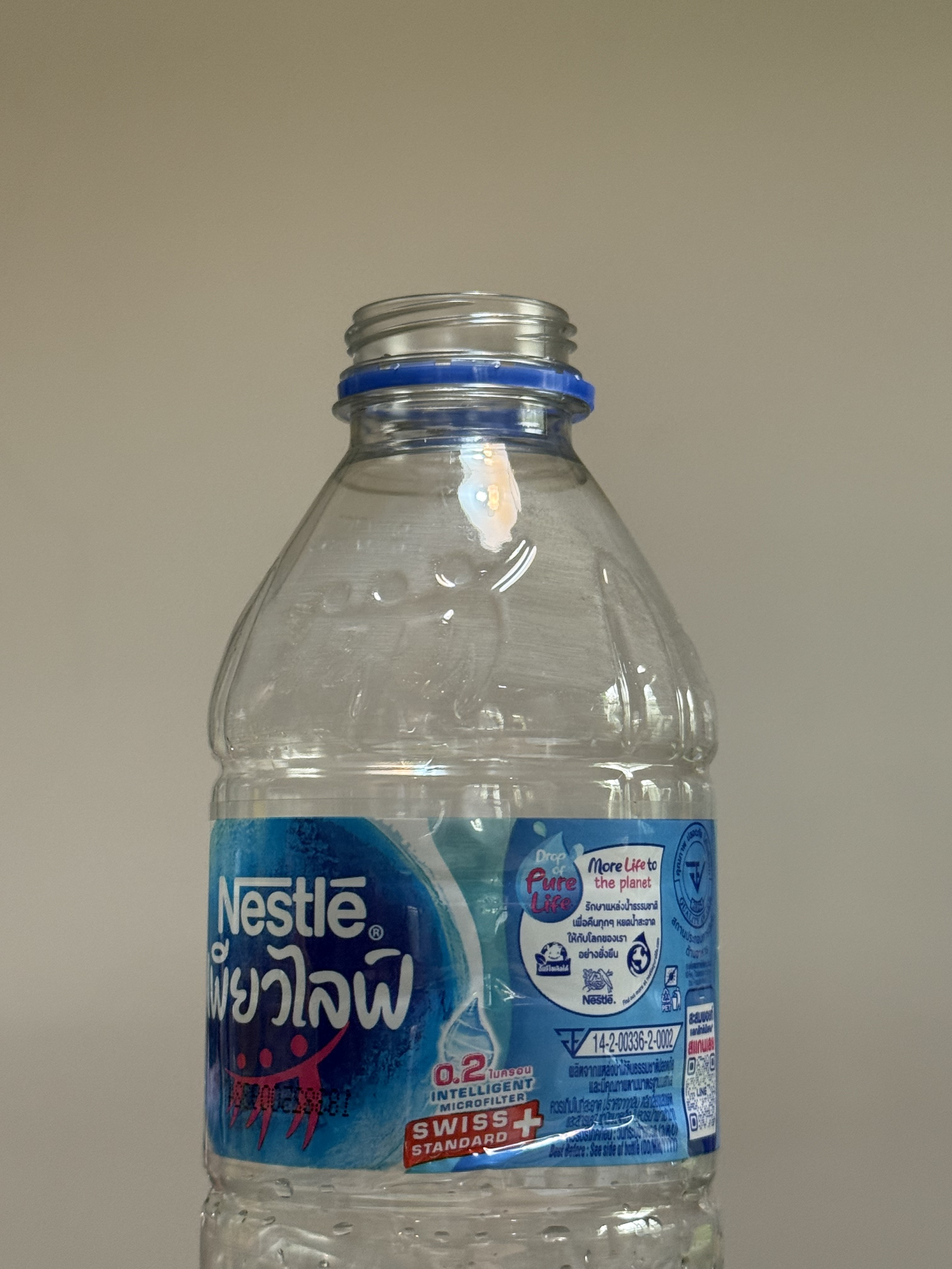no_cap: (335, 287, 598, 409)
